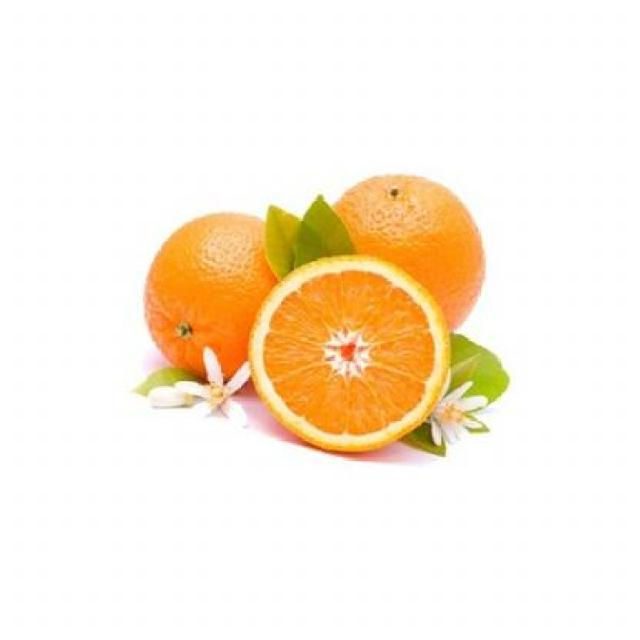Orange: (246, 252, 451, 452), (329, 172, 485, 332), (142, 209, 278, 383)
